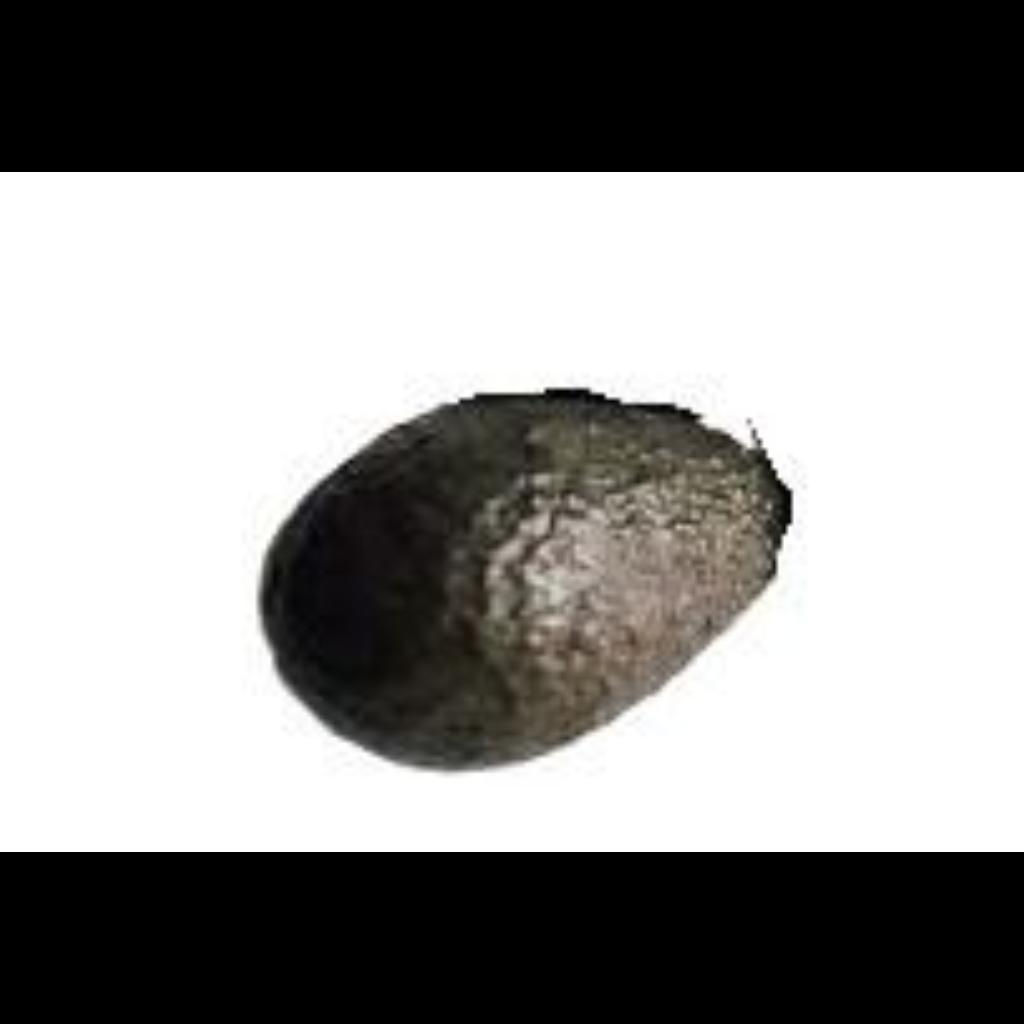antracnosis_fruto: (239, 387, 769, 769)
